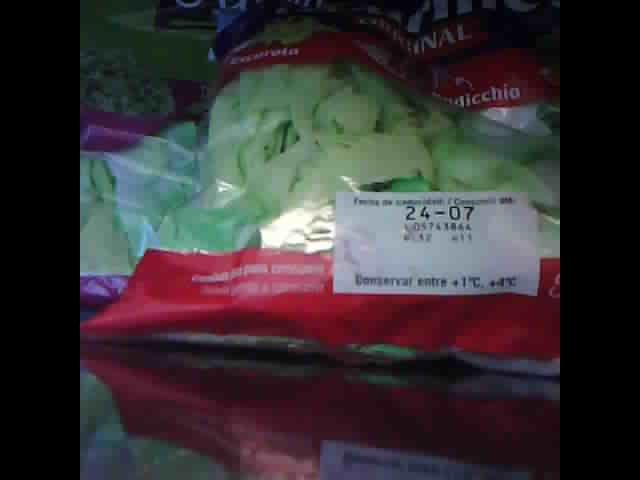florette: (82, 3, 562, 374), (82, 4, 279, 311)
